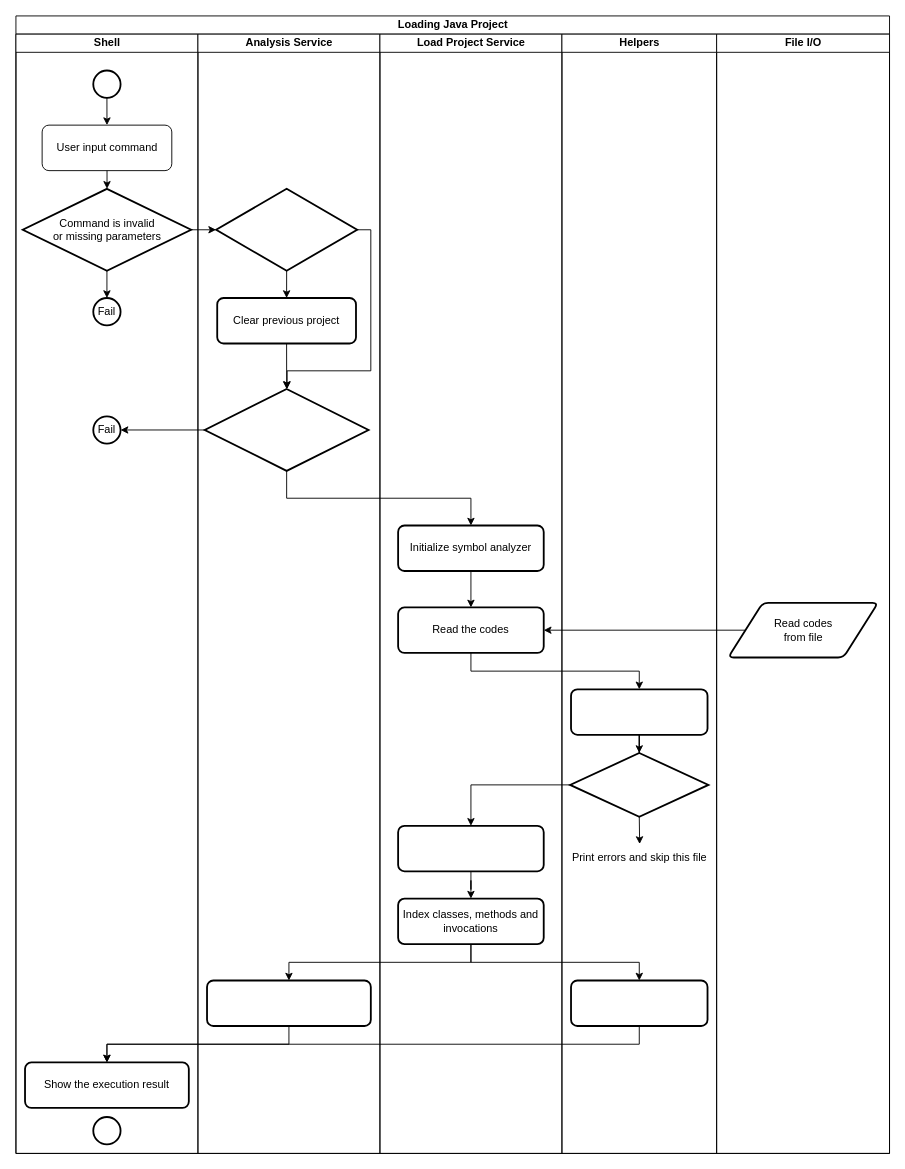
Image size: 905x1169. Some labels were removed from this diagram. The centre of each missing label's shape, as x and y in pixels:
Check syntax error: point 639,711
Do some simple statistics: point 639,1002
End: point 106,1130
Resolve the codes: point 470,848
Save the project and ASTs into memory: point 288,1002
Specified path exists: point 286,429
The code has syntax errors: point 639,784
There is already an opened project: point 286,229
